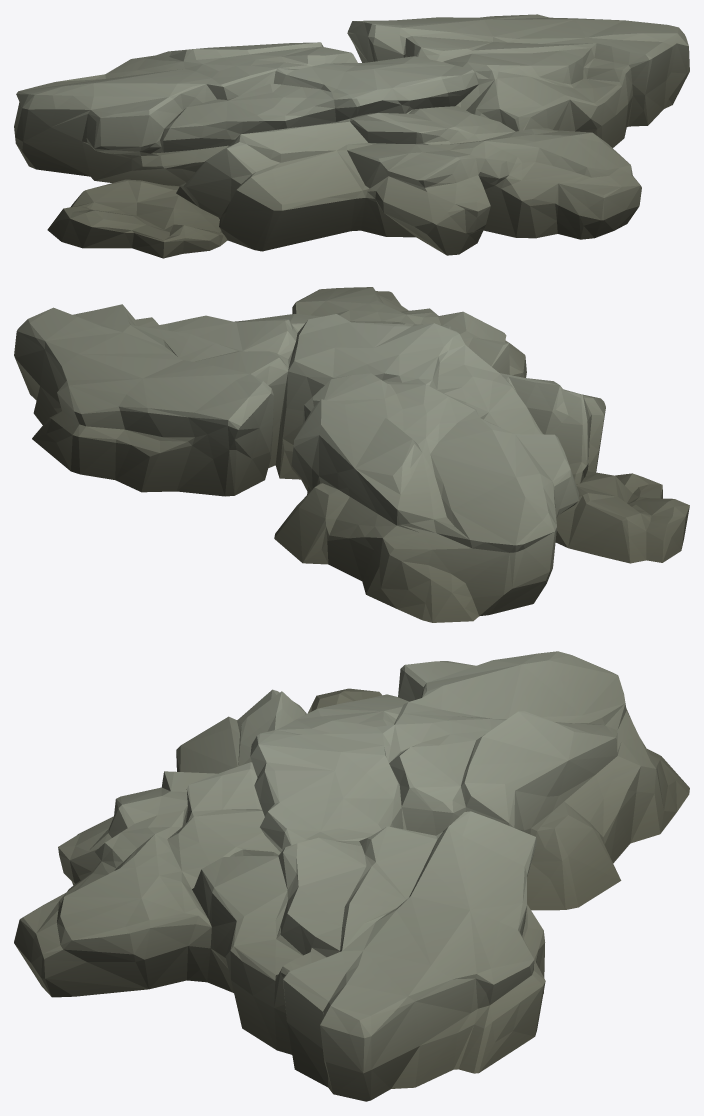
File: ZLP_Rock_E_8.FBX
3 views of the same model, one above another, from view 1: azimuth 30°, elevation 25°; view 2: azimuth 150°, elevation 25°; view 3: azimuth 270°, elevation 25° (orthographic). The views are drawn at different scales.
Parts seen in each view (by area): view 1: ZLP_Rock_E_8; view 2: ZLP_Rock_E_8; view 3: ZLP_Rock_E_8.
Boxes of the visible parts, left/top/right/bottom form: ZLP_Rock_E_8: left=14, top=14, right=689, bottom=258; ZLP_Rock_E_8: left=14, top=287, right=689, bottom=622; ZLP_Rock_E_8: left=14, top=651, right=689, bottom=1101.
Size of the model in its own units: 731 by 130 by 536.
